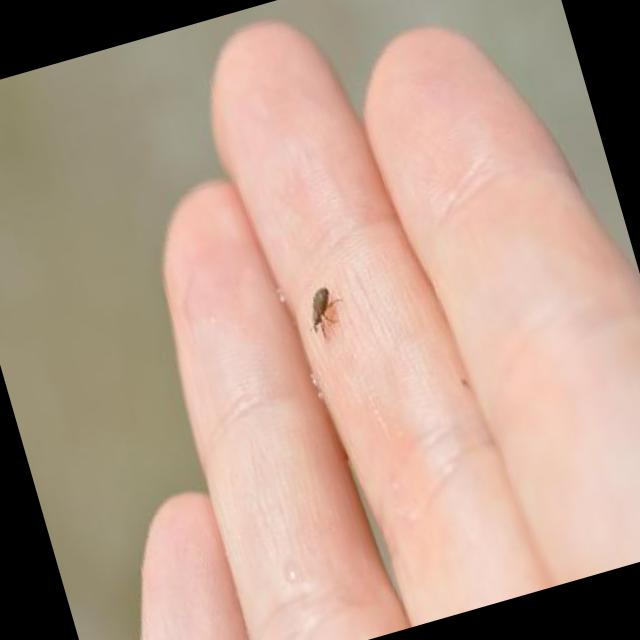rice-bug: (295, 278, 346, 342)
